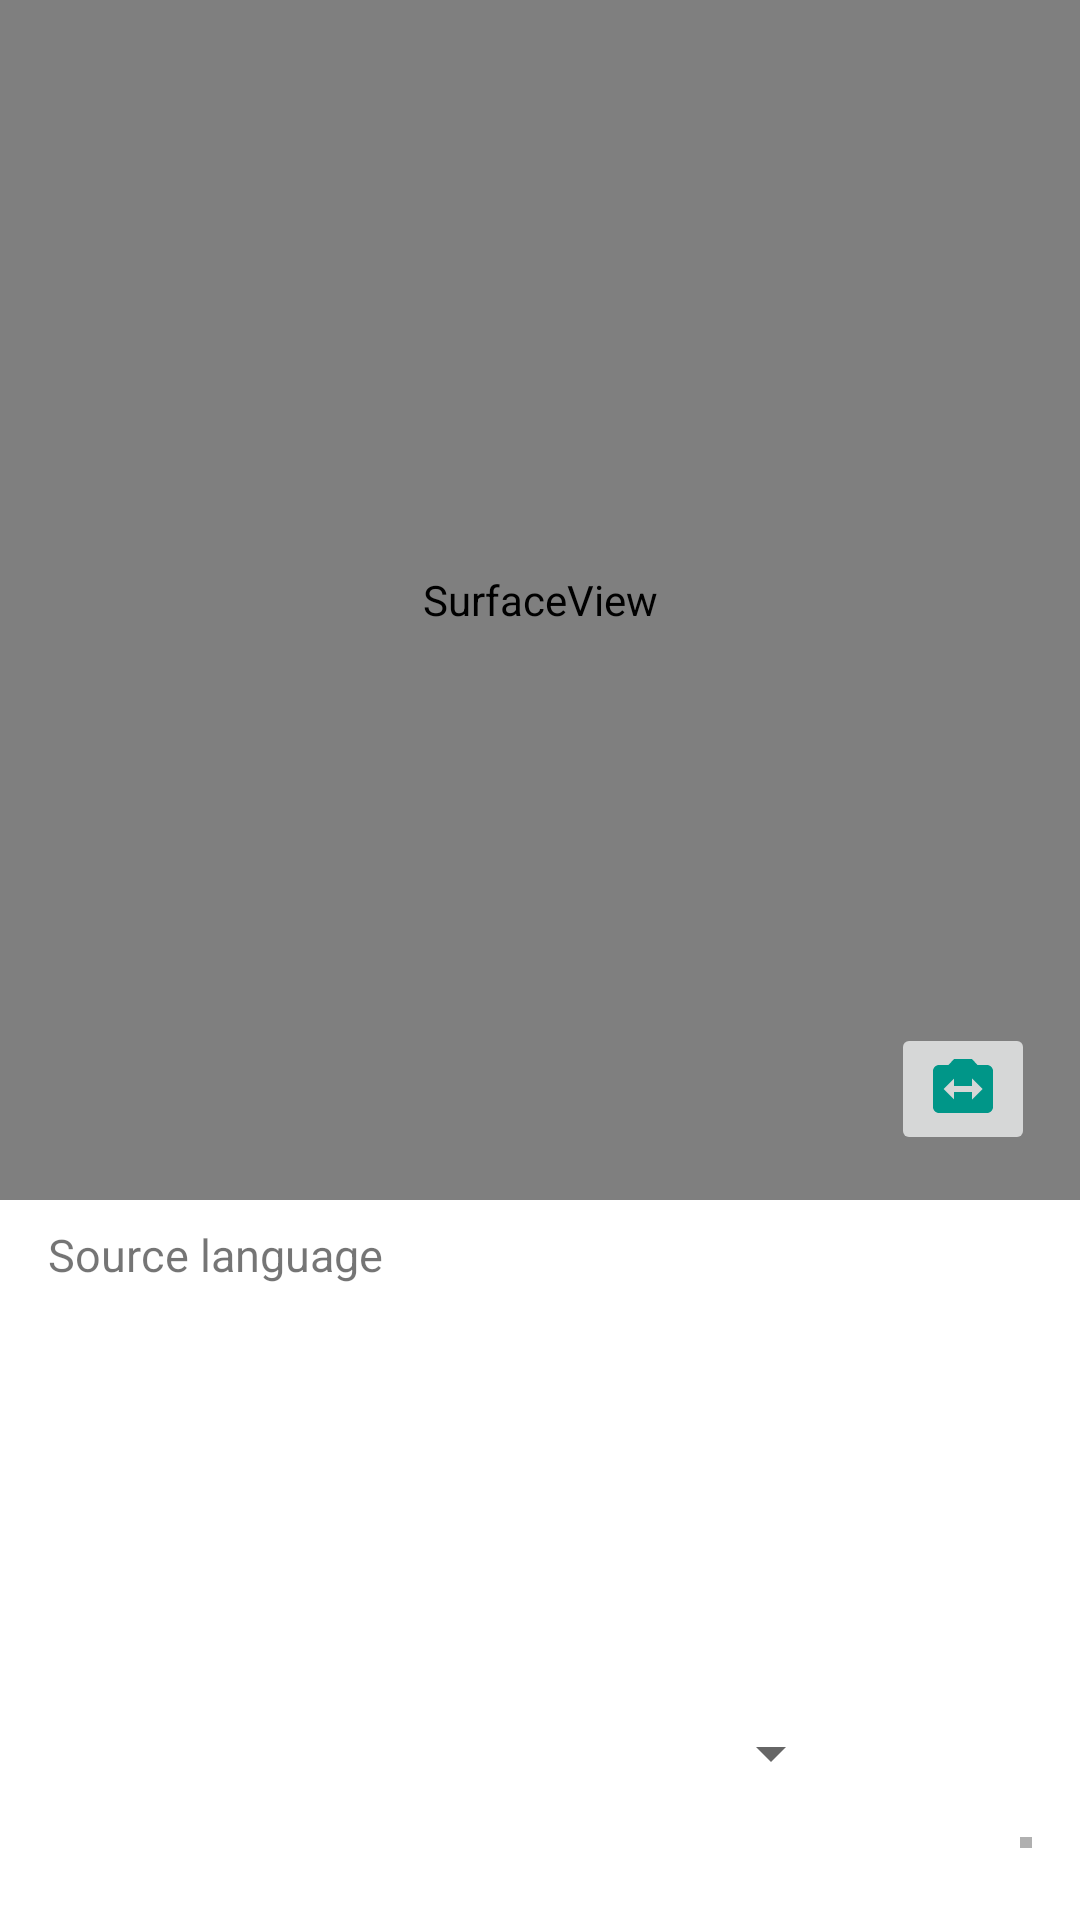

Icons on this 1080×1920 Android screen, each with the point to tap as (x,y):
switch camera: (963,1089)
